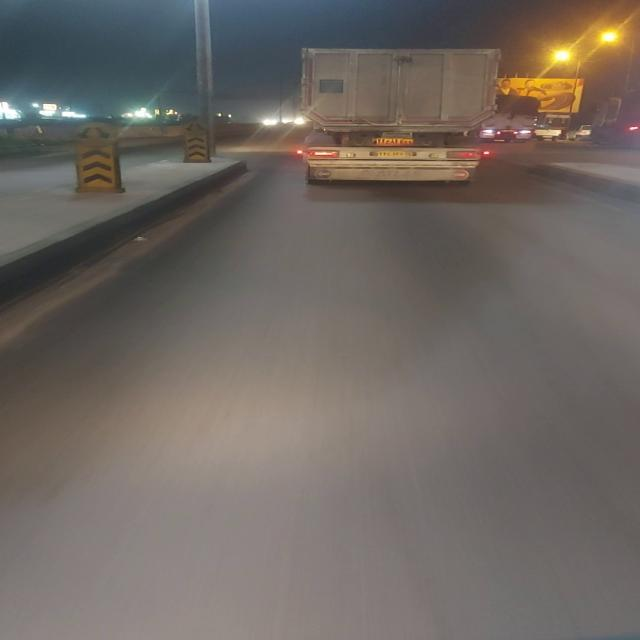Pickup: (534, 124, 568, 143)
Truck: (295, 46, 501, 186), (478, 94, 543, 141)
